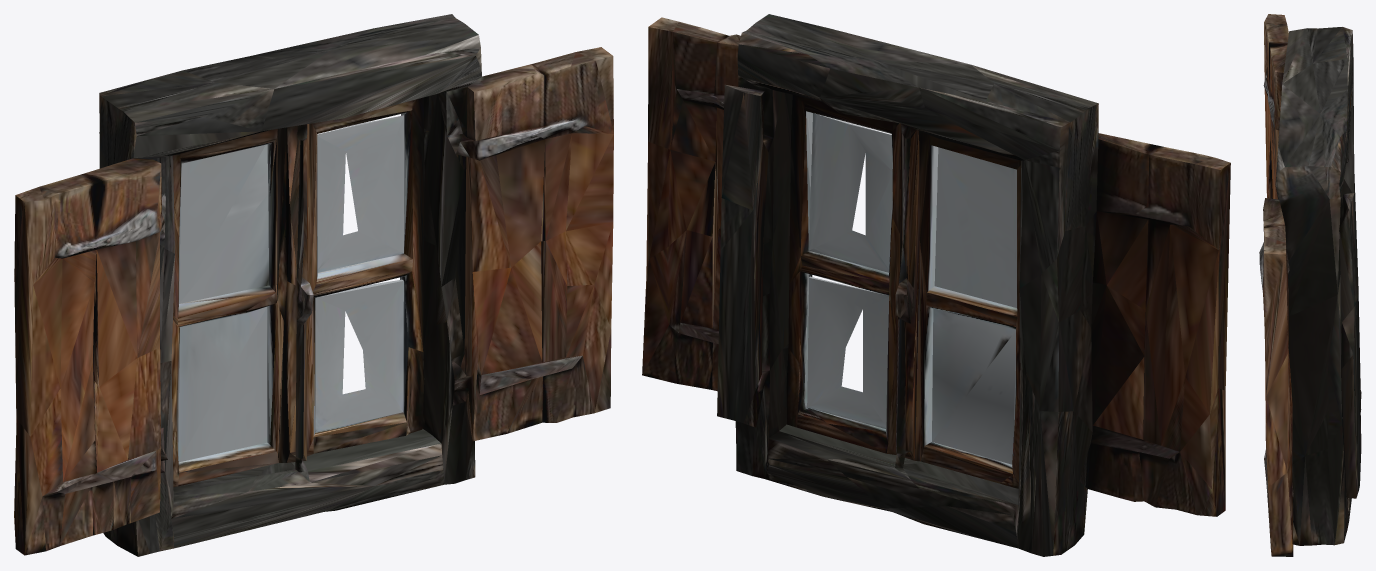
The model's file is Window.glb.
3 renders of one model, left to right at view 1: azimuth 30°, elevation 25°; view 2: azimuth 150°, elevation 25°; view 3: azimuth 270°, elevation 25°, orthographic. The views are drawn at different scales.
Parts seen in each view (by area): view 1: Window; view 2: Window; view 3: Window.
Boxes of the visible parts, box(x1,y1,x2,y2) form: Window: box(14, 14, 613, 556); Window: box(642, 14, 1230, 556); Window: box(1259, 14, 1361, 556).
Size of the model in its own units: 1.4 by 1.02 by 0.247.
Materials: 1 (1 with a texture image).
